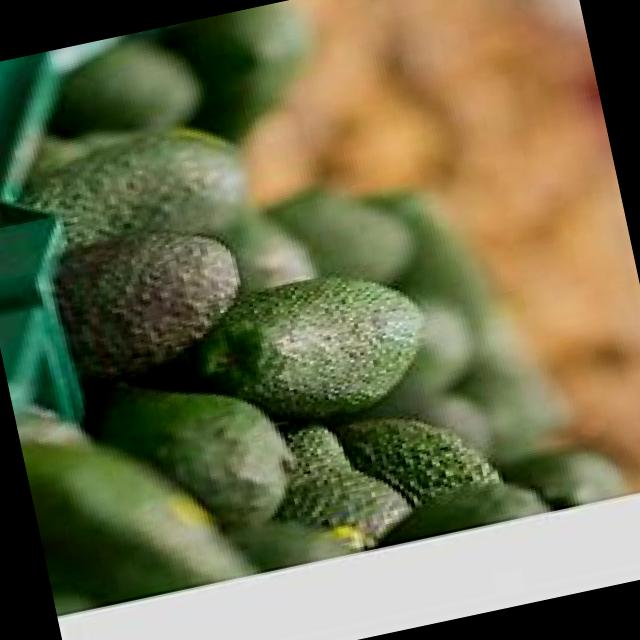avocado: (196, 262, 436, 440), (38, 222, 250, 383)
